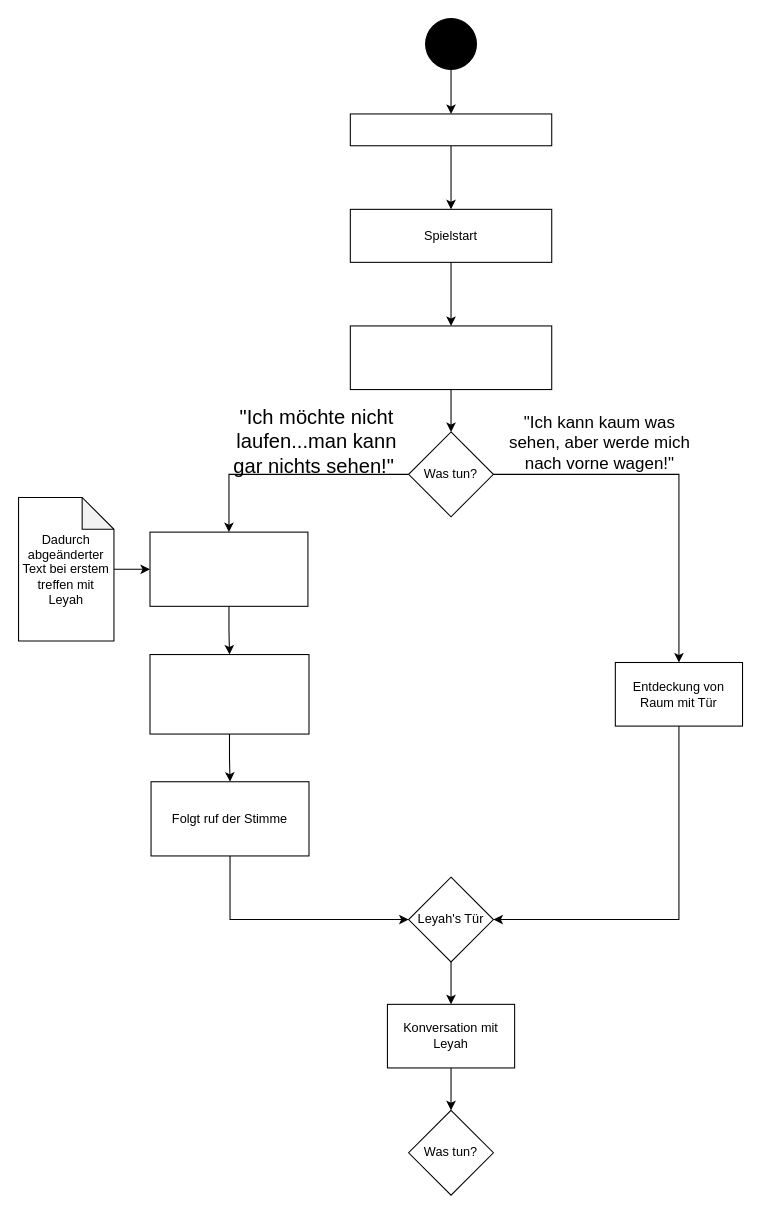
Image size: 761x1214. Some labels were removed from this diagram. The centre of each missing label's shape, as x and y in pixels:
I can't stop crying in my dreams...: [450,129]
Nickname eingeben nach erwecken im Traum: [450,357]
Protagonist ruft um zu sehen, ob jemand bei ihm ist: [229,693]
Spieler gelangt in den Raum des Grabmals: [228,568]
